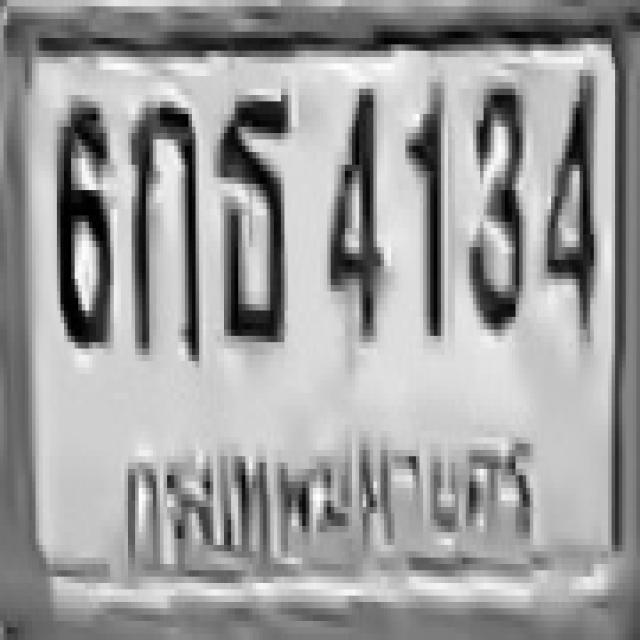1: (402, 79, 441, 333)
10GorGai: (128, 92, 196, 352)
3: (466, 76, 522, 323)
33ThorThong: (210, 89, 288, 342)
4: (538, 66, 596, 326), (324, 82, 381, 336)
6: (54, 95, 110, 342)
Bangkok: (120, 417, 543, 587)
